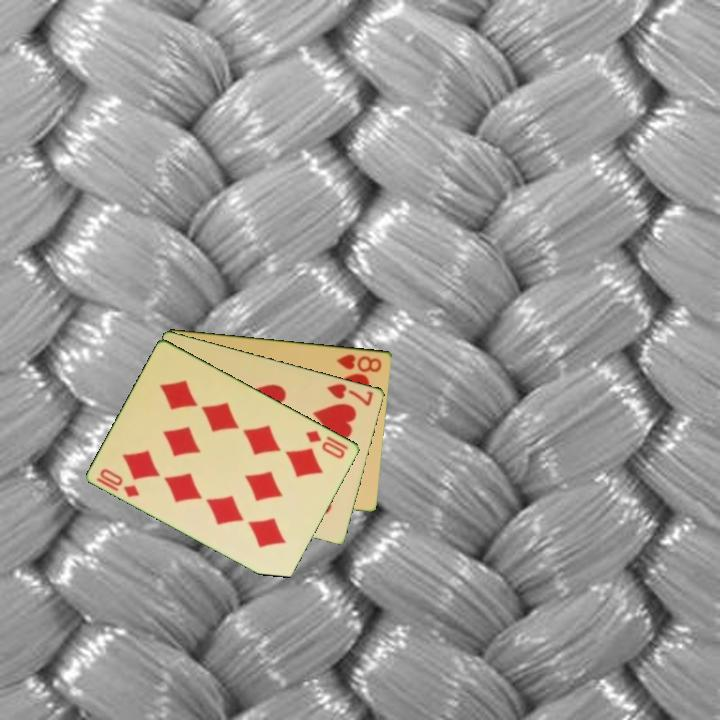10d: (97, 465, 143, 500), (303, 427, 348, 462)
7h: (323, 380, 376, 409)
8h: (333, 350, 384, 375)
